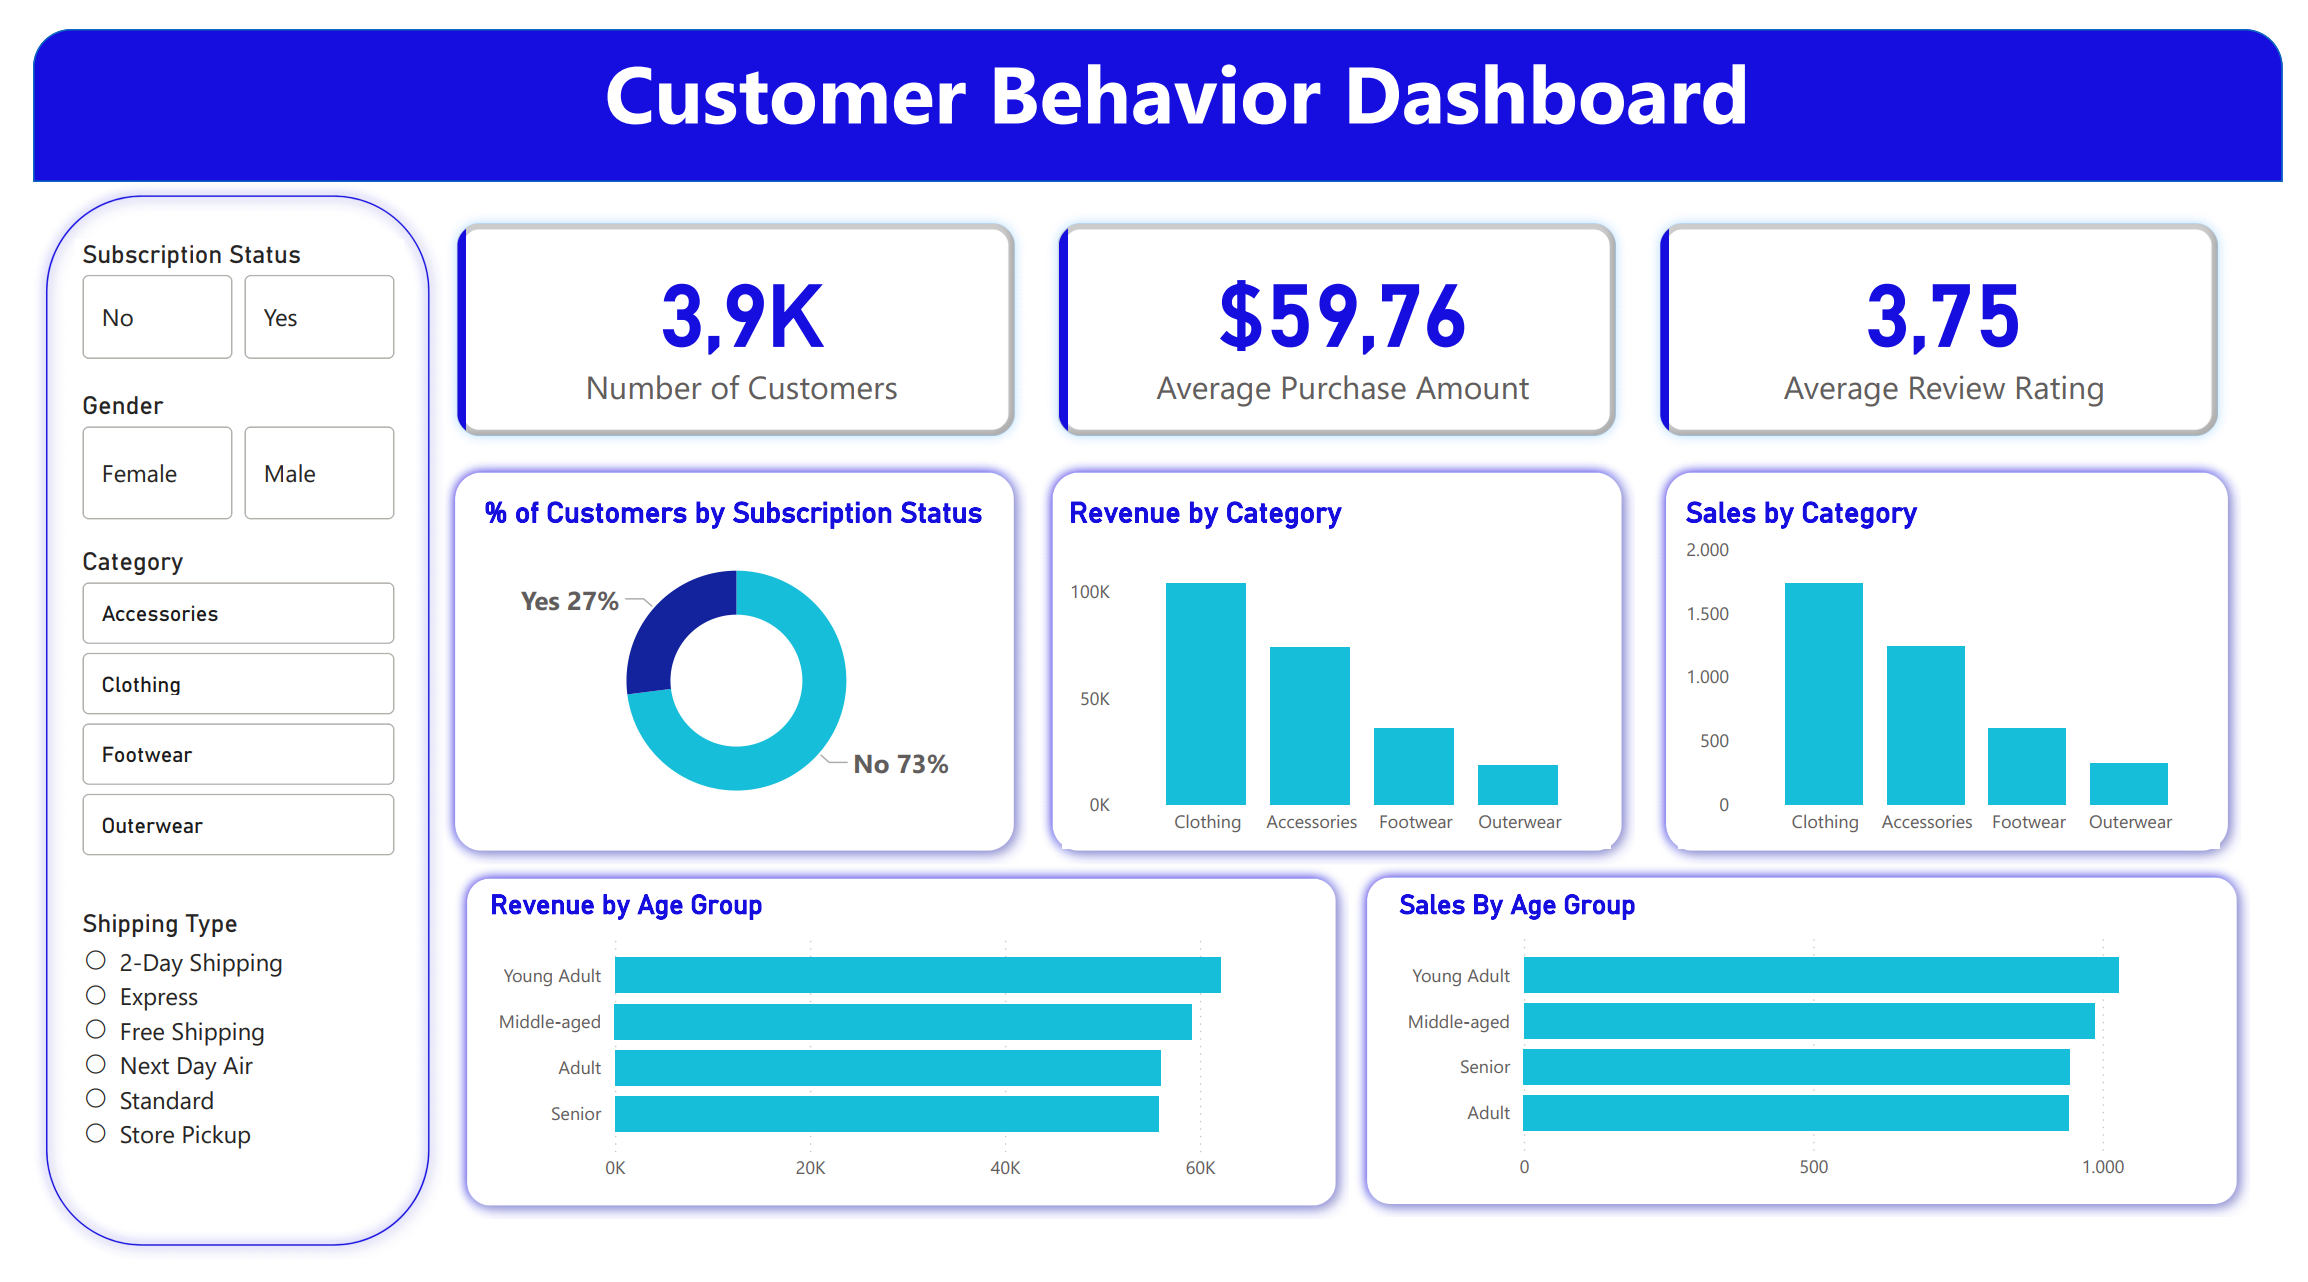

What the dashboard file says about the page in this screenshot:
{"tool":"powerbi","page":{"name":"Page 1","canvas":[1500,820],"ordinal":0},"visuals":[{"type":"cardVisual","fields":{"Data":["public customer.Number of Customers","public customer.Average Purchase Amount","public customer.average Review Rating"]},"box":[255.5,101.6,1229.6,197.2],"z":0},{"type":"shape","box":[0,0,1500,101.6],"z":1000},{"type":"textbox","box":[128.5,0,1269.9,150.9],"z":2000},{"type":"shape","box":[273.4,286.9,389.9,270.4],"z":3000},{"type":"donutChart","title":"% of Customers by Subscription Status","fields":{"Category":["public customer.subscription_status"],"Y":["CountNonNull(public customer.customer_id)"]},"box":[295.8,310.8,346.6,225.6],"z":4000},{"type":"shape","box":[670.8,286.9,397.4,270.4],"z":5000},{"type":"shape","box":[1080.2,286.9,391.4,270.4],"z":6000},{"type":"clusteredColumnChart","title":"Revenue by Category","fields":{"Y":["Sum(public customer.purchase_amount)"],"Category":["public customer.category"]},"box":[685.8,310.8,366,236.1],"z":7000},{"type":"clusteredColumnChart","title":"Sales by Category","fields":{"Y":["CountNonNull(public customer.customer_id)"],"Category":["public customer.category"]},"box":[1096.6,310.8,361.6,236.1],"z":8000},{"type":"shape","box":[0,101.6,273.4,718.6],"z":9000},{"type":"advancedSlicerVisual","fields":{"Values":["public customer.subscription_status"]},"box":[28.4,140.4,218.1,85.2],"z":10000},{"type":"advancedSlicerVisual","fields":{"Values":["public customer.gender"]},"box":[28.4,240.5,218.1,91.1],"z":11000},{"type":"advancedSlicerVisual","fields":{"Values":["public customer.category"]},"box":[28.4,345.1,218.1,212.2],"z":12000},{"type":"listSlicer","fields":{"Values":["public customer.shipping_type"]},"box":[28.4,585.7,218.1,218.1],"z":13000},{"type":"shape","box":[280.7,557.7,596,235.1],"z":14000},{"type":"clusteredBarChart","title":"Revenue by Age Group","fields":{"Y":["Sum(public customer.purchase_amount)"],"Category":["public customer.age_group"]},"box":[300.3,572.8,557.3,204.3],"z":15000},{"type":"shape","box":[881.5,557.3,596.1,234.6],"z":16000},{"type":"clusteredBarChart","title":"Sales By Age Group","fields":{"Y":["CountNonNull(public customer.customer_id)"],"Category":["public customer.age_group"]},"box":[905.6,572.8,571.2,202.8],"z":17000}]}

Visuals, with their boxes in screenshot pixels (x1, y1, x2, y2), scaled from the page's 1500x820 canvas onto the 2308x1282 screenshot:
cardVisual - public customer.Number of Customers x public customer.Average Purchase Amount: (393,159,2285,467)
shape: (0,0,2307,159)
textbox: (198,0,2152,236)
shape: (421,449,1021,871)
"% of Customers by Subscription Status" donutChart: (455,486,988,839)
shape: (1032,449,1644,871)
shape: (1662,449,2264,871)
"Revenue by Category" clusteredColumnChart: (1055,486,1618,855)
"Sales by Category" clusteredColumnChart: (1687,486,2244,855)
shape: (0,159,421,1281)
advancedSlicerVisual - public customer.subscription_status: (44,220,379,353)
advancedSlicerVisual - public customer.gender: (44,376,379,518)
advancedSlicerVisual - public customer.category: (44,540,379,871)
listSlicer - public customer.shipping_type: (44,916,379,1257)
shape: (432,872,1349,1239)
"Revenue by Age Group" clusteredBarChart: (462,896,1320,1215)
shape: (1356,871,2274,1238)
"Sales By Age Group" clusteredBarChart: (1393,896,2272,1213)
